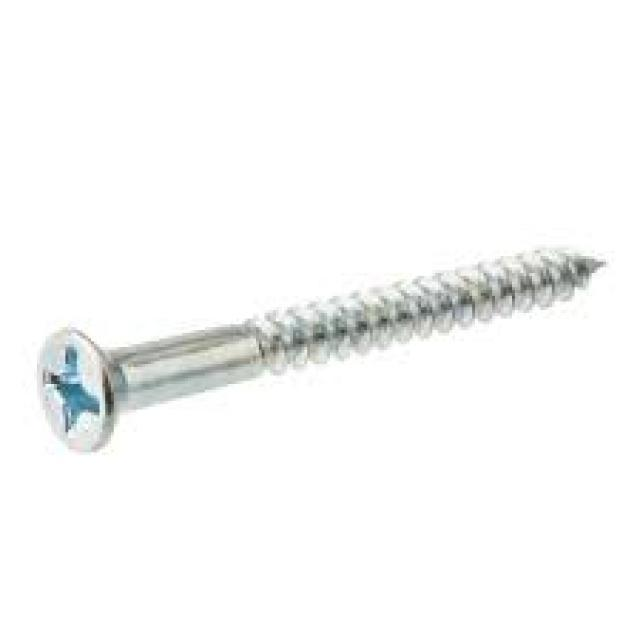Screw: (37, 247, 606, 455)
